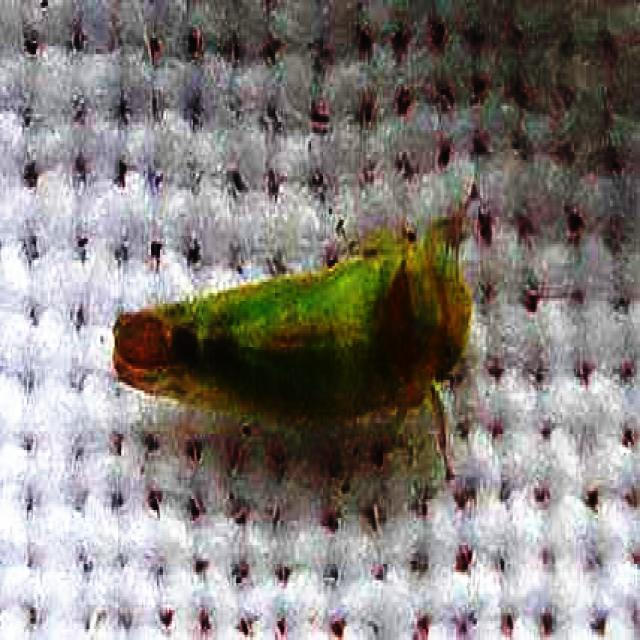green-leafhopper: (112, 233, 473, 477)
